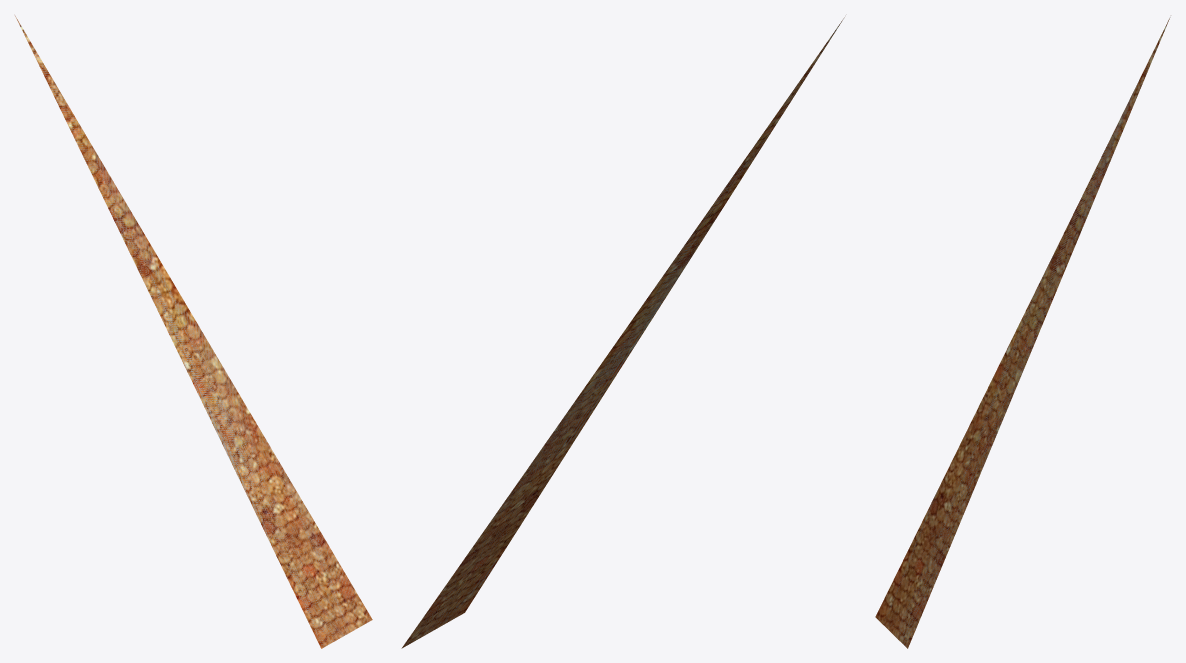
Rendered from 西庸城堡147.dae.
3 renders of one model, left to right at view 1: azimuth 30°, elevation 25°; view 2: azimuth 210°, elevation 25°; view 3: azimuth 270°, elevation 25°, orthographic. The views are drawn at different scales.
Parts seen in each view (by area): view 1: SketchUp; view 2: SketchUp; view 3: SketchUp.
Part boxes in pixels (x1,y1,x2,y2): SketchUp: (15, 16, 372, 648); SketchUp: (401, 17, 844, 648); SketchUp: (875, 17, 1170, 648).
Bounding box in the file's own units: 114 × 139 × 276.
